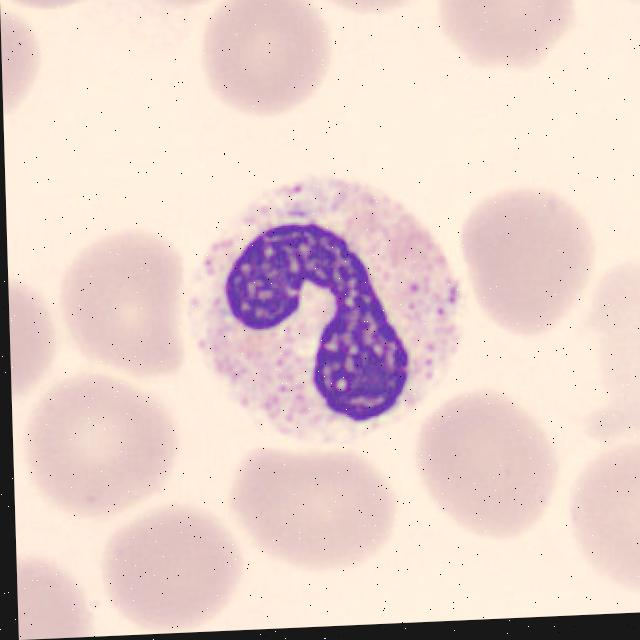neutrophil: (178, 165, 474, 458)
rbc: (412, 393, 556, 543), (223, 451, 390, 576), (28, 380, 169, 513), (464, 189, 593, 332), (61, 236, 181, 374), (104, 512, 236, 636), (197, 0, 331, 116), (567, 256, 640, 429), (568, 440, 640, 587), (436, 0, 580, 65), (17, 559, 92, 640), (0, 10, 49, 122), (9, 285, 57, 387), (318, 0, 425, 27), (143, 0, 215, 15), (17, 0, 86, 14), (586, 0, 638, 5), (548, 28, 549, 30)
